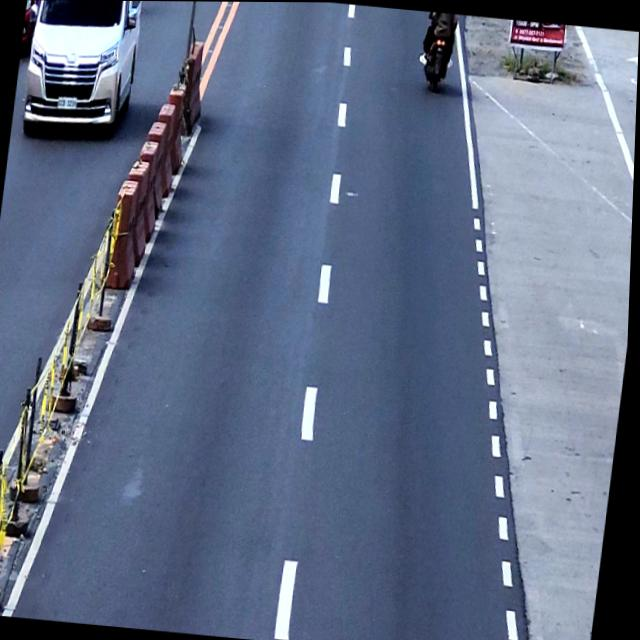Car: (20, 0, 145, 142)
License-Plate: (56, 93, 78, 110)
Motorcycle: (418, 27, 456, 93)
